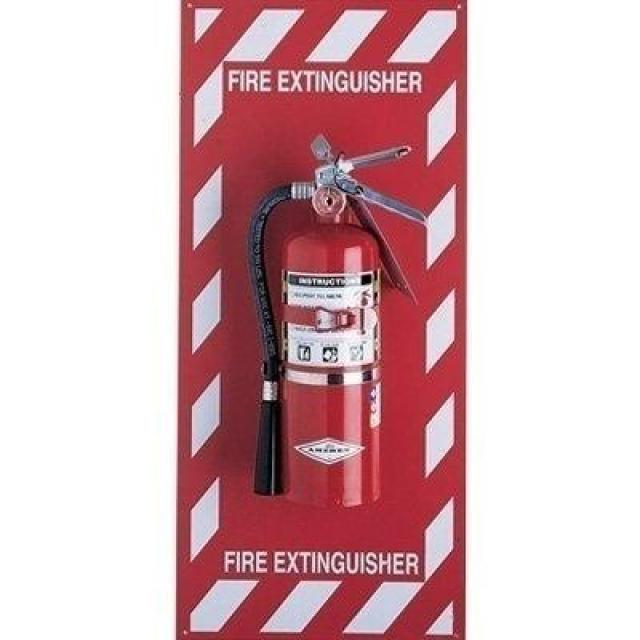fire_extinguisher: (240, 127, 429, 510)
